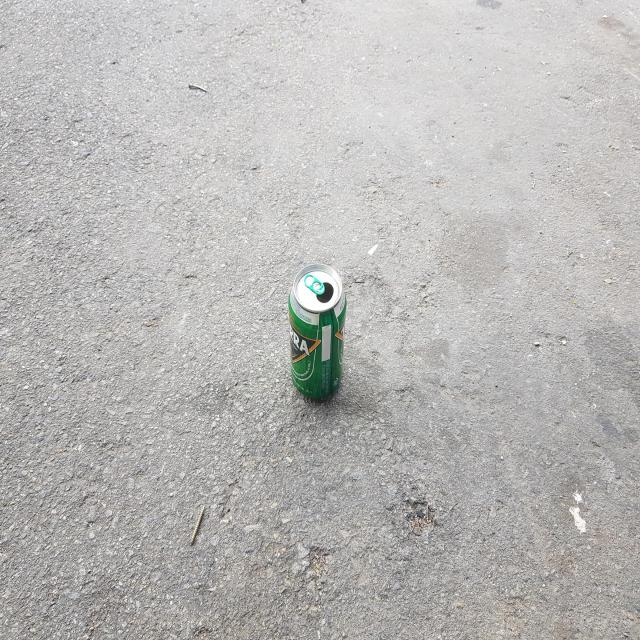can: (289, 264, 347, 398)
